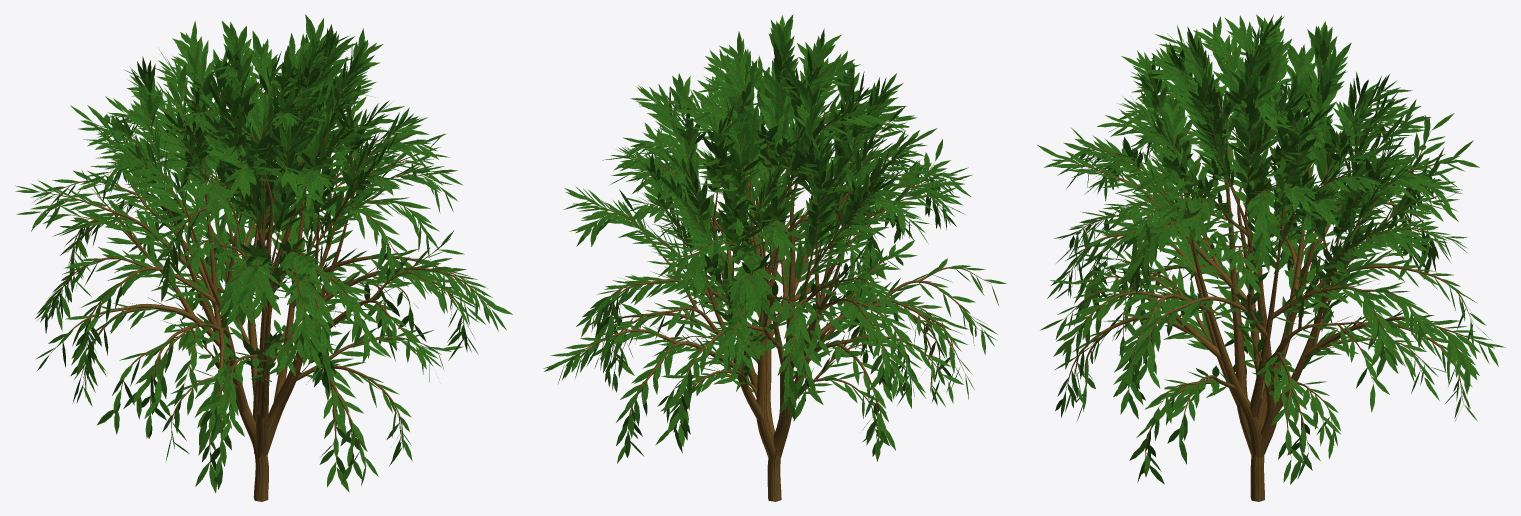
The model's file is Tree1.fbx.
The picture shows the model from 3 angles, left to right: view 1: azimuth 30°, elevation 25°; view 2: azimuth 150°, elevation 25°; view 3: azimuth 270°, elevation 25°; orthographic projection. The views are drawn at different scales.
Parts seen in each view (by area): view 1: leaves, tree; view 2: leaves, tree; view 3: leaves, tree.
Boxes of the visible parts, x1,y1,x2,y2 form: leaves: [15, 14, 512, 493]; tree: [40, 52, 490, 501]; leaves: [543, 14, 1006, 463]; tree: [565, 55, 990, 501]; leaves: [1037, 14, 1505, 484]; tree: [1063, 39, 1474, 501].
Size of the model in its own units: 578 by 682 by 605.
2 materials, 2 textured.
